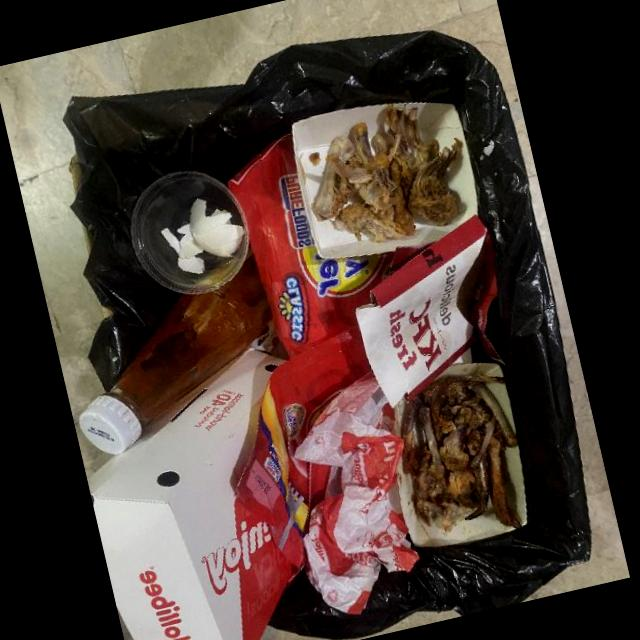bao_bi_thuc_pham: (226, 133, 430, 360), (233, 325, 373, 571)
carton: (89, 345, 304, 640), (356, 214, 489, 409)
chai_thuy_tinh: (77, 246, 273, 454)
thuc_an_thua: (315, 101, 464, 242), (400, 371, 523, 534)
vo_trung: (159, 198, 244, 274)
